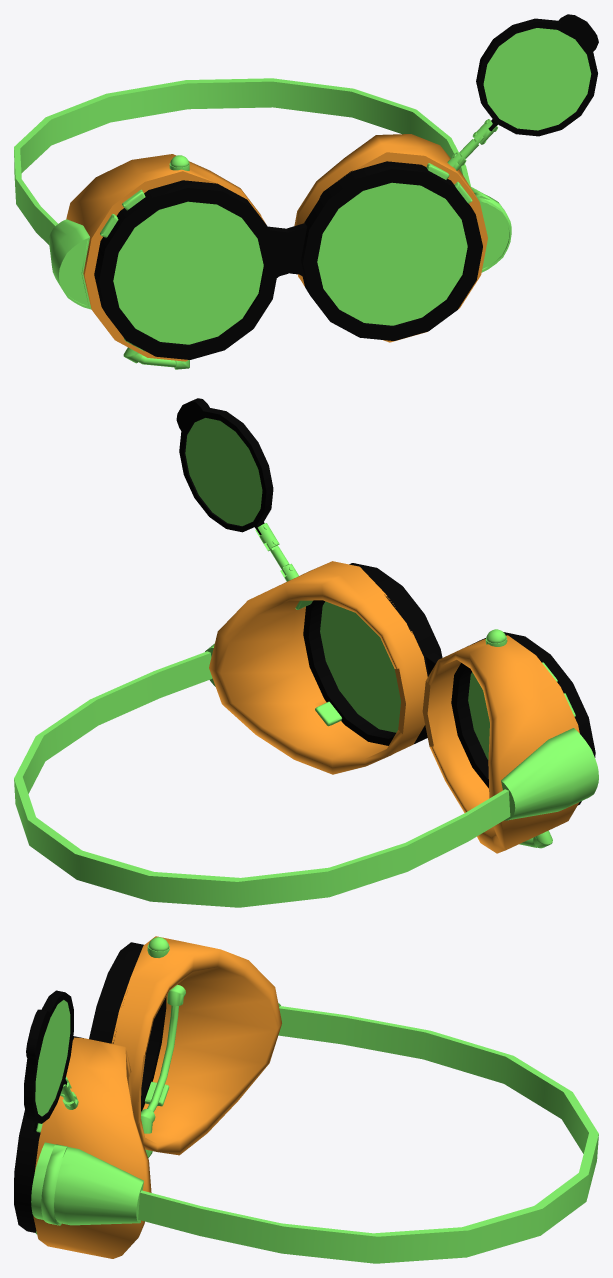
The model's file is ToyObject_093.fbx.
The picture shows the model from 3 angles, top to bottom: view 1: azimuth 30°, elevation 25°; view 2: azimuth 150°, elevation 25°; view 3: azimuth 270°, elevation 25°; orthographic projection. The views are drawn at different scales.
Visible parts, largest first — view 1: Object.059; view 2: Object.059; view 3: Object.059.
Boxes of the visible parts, x1,y1,x2,y2 form: Object.059: (14,14,598,369); Object.059: (14,398,598,907); Object.059: (14,936,598,1263).
Size of the model in its own units: 0.1918 by 0.1184 by 0.1898.
